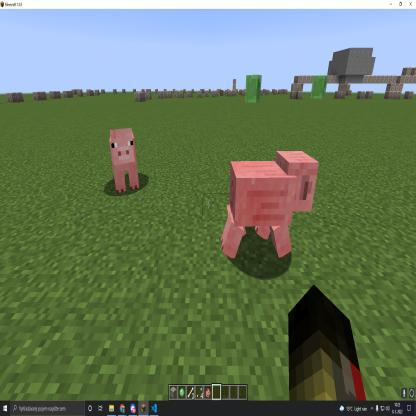pig: (216, 148, 320, 269), (103, 122, 148, 202)
